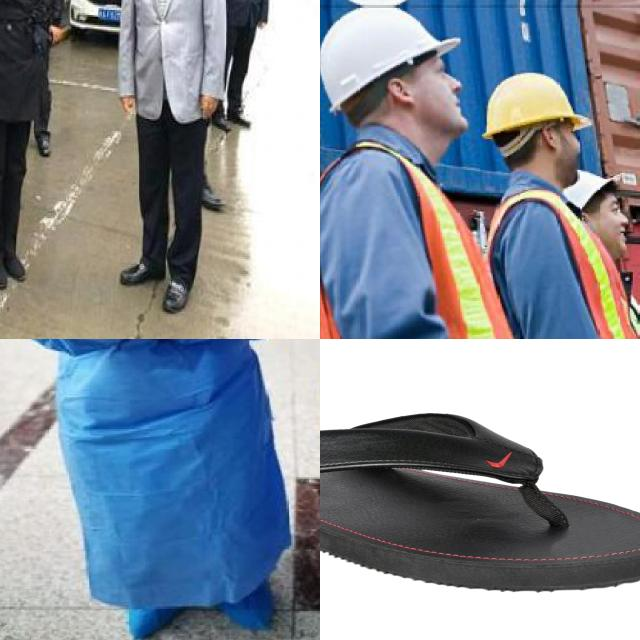No_Ear-Protection: (383, 74, 419, 113), (539, 122, 560, 153)
Sandals: (320, 411, 640, 594)
face_nomask: (419, 75, 469, 133), (591, 215, 628, 262)
head_helmet: (322, 8, 455, 110), (484, 73, 590, 139)
person: (0, 339, 308, 640), (116, 0, 230, 330), (0, 0, 66, 297), (217, 0, 273, 142)
shoes: (117, 254, 167, 287), (159, 272, 197, 315), (0, 242, 30, 287), (31, 126, 58, 160), (226, 100, 255, 128), (0, 244, 9, 293)
